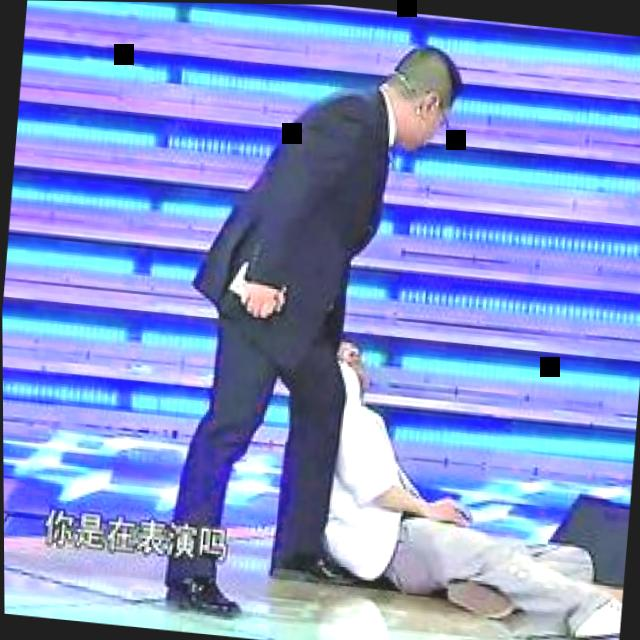Fall-Detected: (279, 298, 640, 640)
